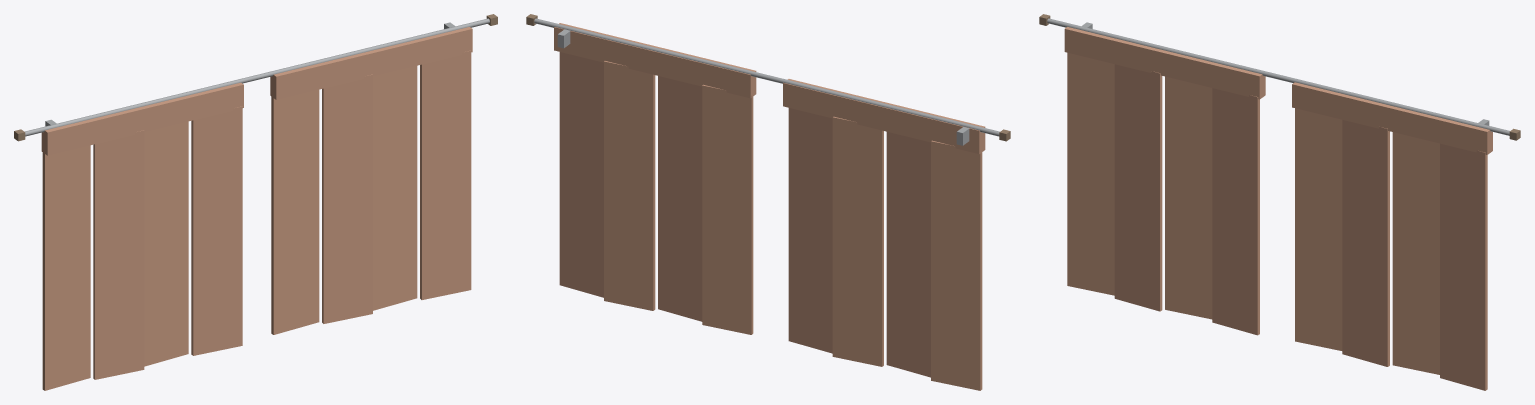
The model's file is curtains.gltf.
3 views of the same model, side by side, from view 1: azimuth 30°, elevation 25°; view 2: azimuth 150°, elevation 25°; view 3: azimuth 330°, elevation 25° (orthographic).
Parts seen in each view (by area): view 1: panel_l_1, panel_r_3, panel_l_3, panel_r_1, panel_l_0, panel_r_0, panel_l_2, panel_r_2, header_r, header_l, Rod; view 2: panel_r_0, panel_l_0, panel_l_2, panel_r_2, panel_l_3, panel_r_1, panel_r_3, panel_l_1, header_l, header_r, Rod; view 3: panel_l_1, panel_r_3, panel_l_3, panel_r_1, panel_l_0, panel_l_2, panel_r_0, panel_r_2, header_l, header_r, Rod.
Part boxes in pixels (x1=…): panel_l_1: x1=93, y1=130, x2=144, y2=379; panel_r_3: x1=420, y1=50, x2=471, y2=299; panel_l_3: x1=191, y1=106, x2=242, y2=355; panel_r_1: x1=322, y1=74, x2=372, y2=323; panel_l_0: x1=42, y1=145, x2=90, y2=390; panel_r_0: x1=271, y1=89, x2=319, y2=334; panel_l_2: x1=144, y1=121, x2=188, y2=366; panel_r_2: x1=373, y1=66, x2=417, y2=310; header_r: x1=270, y1=27, x2=472, y2=99; header_l: x1=41, y1=82, x2=243, y2=155; Rod: x1=25, y1=18, x2=489, y2=136; panel_r_0: x1=702, y1=84, x2=753, y2=334; panel_l_0: x1=931, y1=140, x2=982, y2=390; panel_l_2: x1=832, y1=116, x2=883, y2=366; panel_r_2: x1=604, y1=61, x2=655, y2=310; panel_l_3: x1=788, y1=108, x2=832, y2=353; panel_r_1: x1=658, y1=76, x2=702, y2=321; panel_r_3: x1=559, y1=52, x2=603, y2=297; panel_l_1: x1=886, y1=132, x2=930, y2=377; header_l: x1=783, y1=79, x2=985, y2=154; header_r: x1=554, y1=23, x2=756, y2=98; Rod: x1=534, y1=18, x2=999, y2=136; panel_l_1: x1=1114, y1=64, x2=1162, y2=311; panel_r_3: x1=1440, y1=143, x2=1487, y2=390; panel_l_3: x1=1212, y1=88, x2=1259, y2=335; panel_r_1: x1=1342, y1=120, x2=1389, y2=366; panel_l_0: x1=1067, y1=52, x2=1114, y2=295; panel_l_2: x1=1165, y1=76, x2=1212, y2=319; panel_r_0: x1=1295, y1=108, x2=1342, y2=350; panel_r_2: x1=1392, y1=132, x2=1439, y2=374; header_l: x1=1064, y1=27, x2=1265, y2=99; header_r: x1=1292, y1=82, x2=1492, y2=154; Rod: x1=1047, y1=18, x2=1509, y2=135.
Bounding box in the file's own units: 0.1481 × 0.078 × 0.00676.
